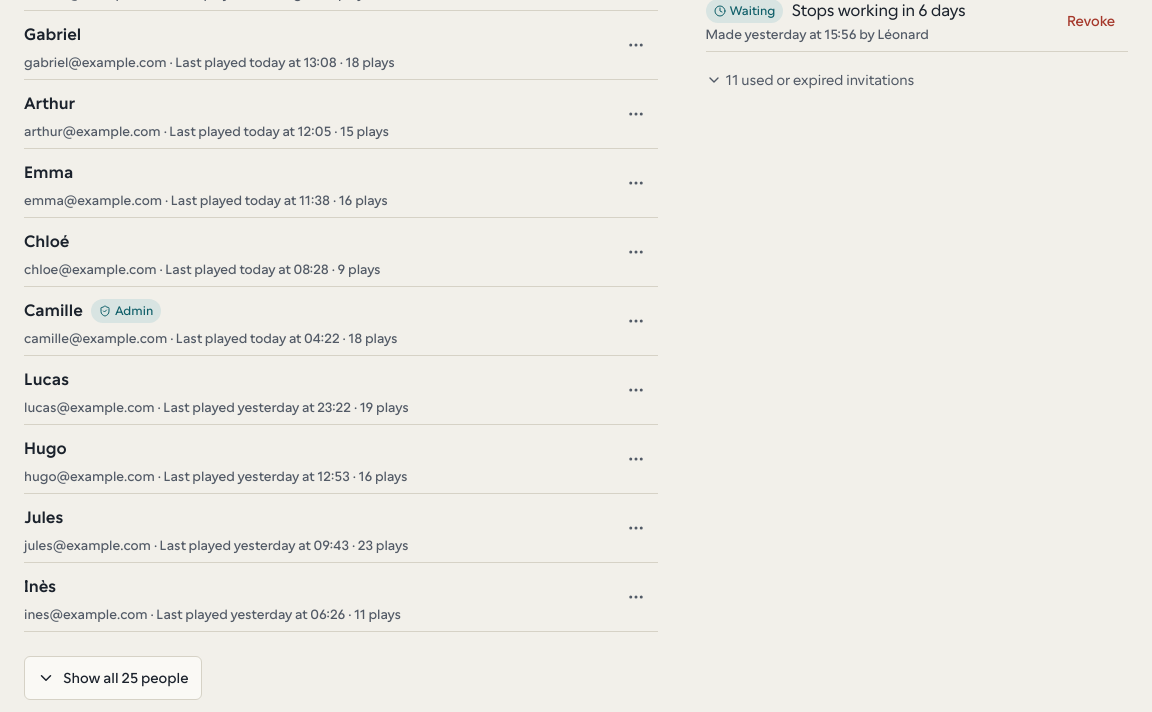
Test: admin page › people: the most active first, a search past ten, the rest on a press
(page scrolled)
Click the button "Show all 25 people".
click(113, 678)  # box [24, 656, 202, 700]
(page scrolled)
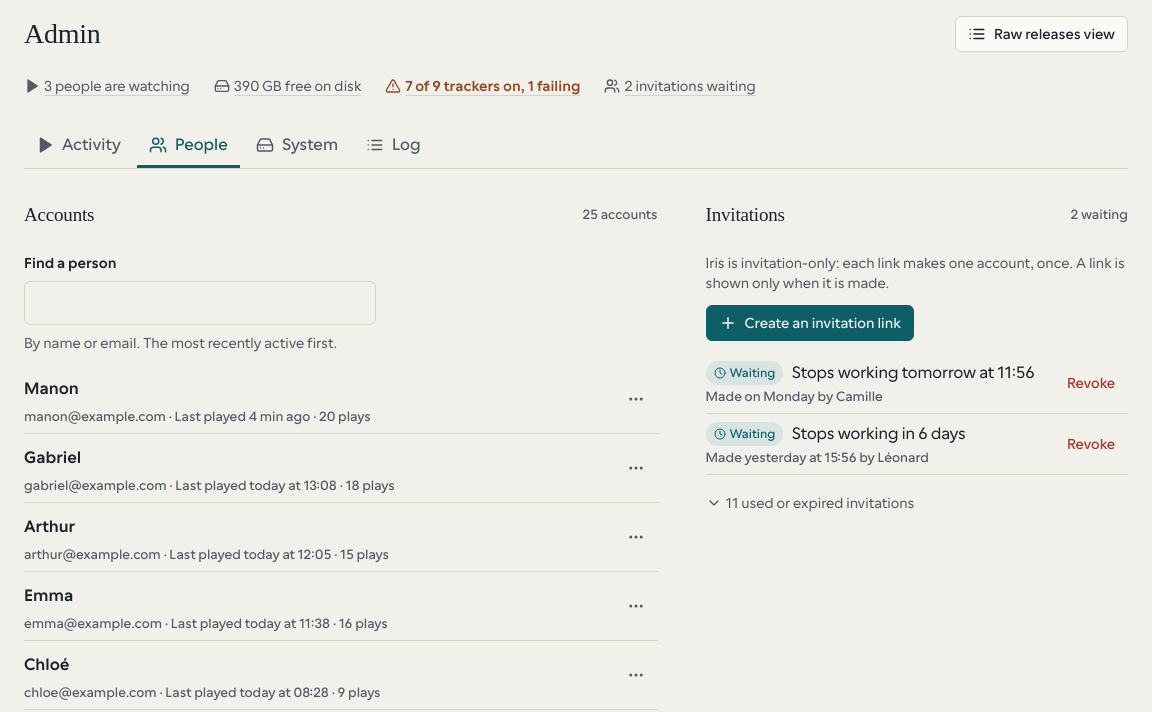
Type "jade@" into the search field labelled "Find a person".
click(200, 303); type("jade@")  # box [24, 281, 376, 325]
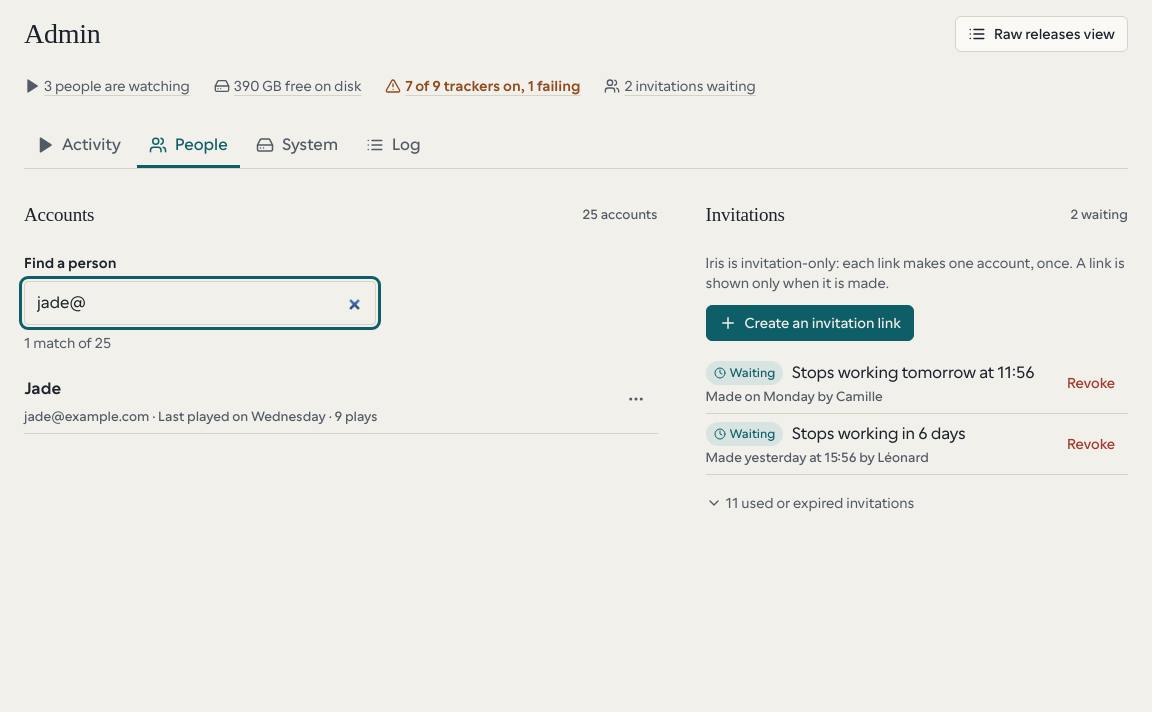
Result: the text "1 match of 25" is shown at [24, 335, 111, 351]
